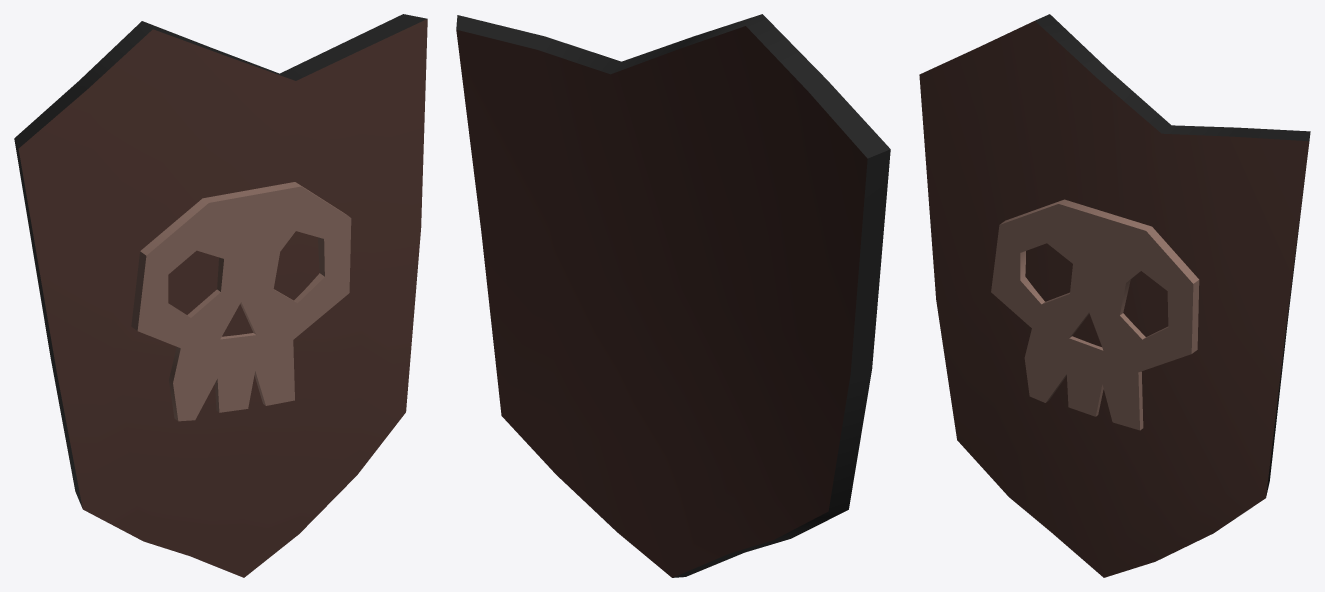
Rendered from wpms cap2b.fbx.
3 renders of one model, left to right at view 1: azimuth 30°, elevation 25°; view 2: azimuth 150°, elevation 25°; view 3: azimuth 330°, elevation 25°, orthographic. The views are drawn at different scales.
Parts seen in each view (by area): view 1: wpms_cap2b; view 2: wpms_cap2b; view 3: wpms_cap2b.
Part boxes in pixels (x1,y1,x2,y2): wpms_cap2b: [14, 14, 427, 577]; wpms_cap2b: [456, 14, 890, 577]; wpms_cap2b: [919, 14, 1310, 577].
Size of the model in its own units: 79.96 by 105 by 12.12.
1 material, 1 textured.
